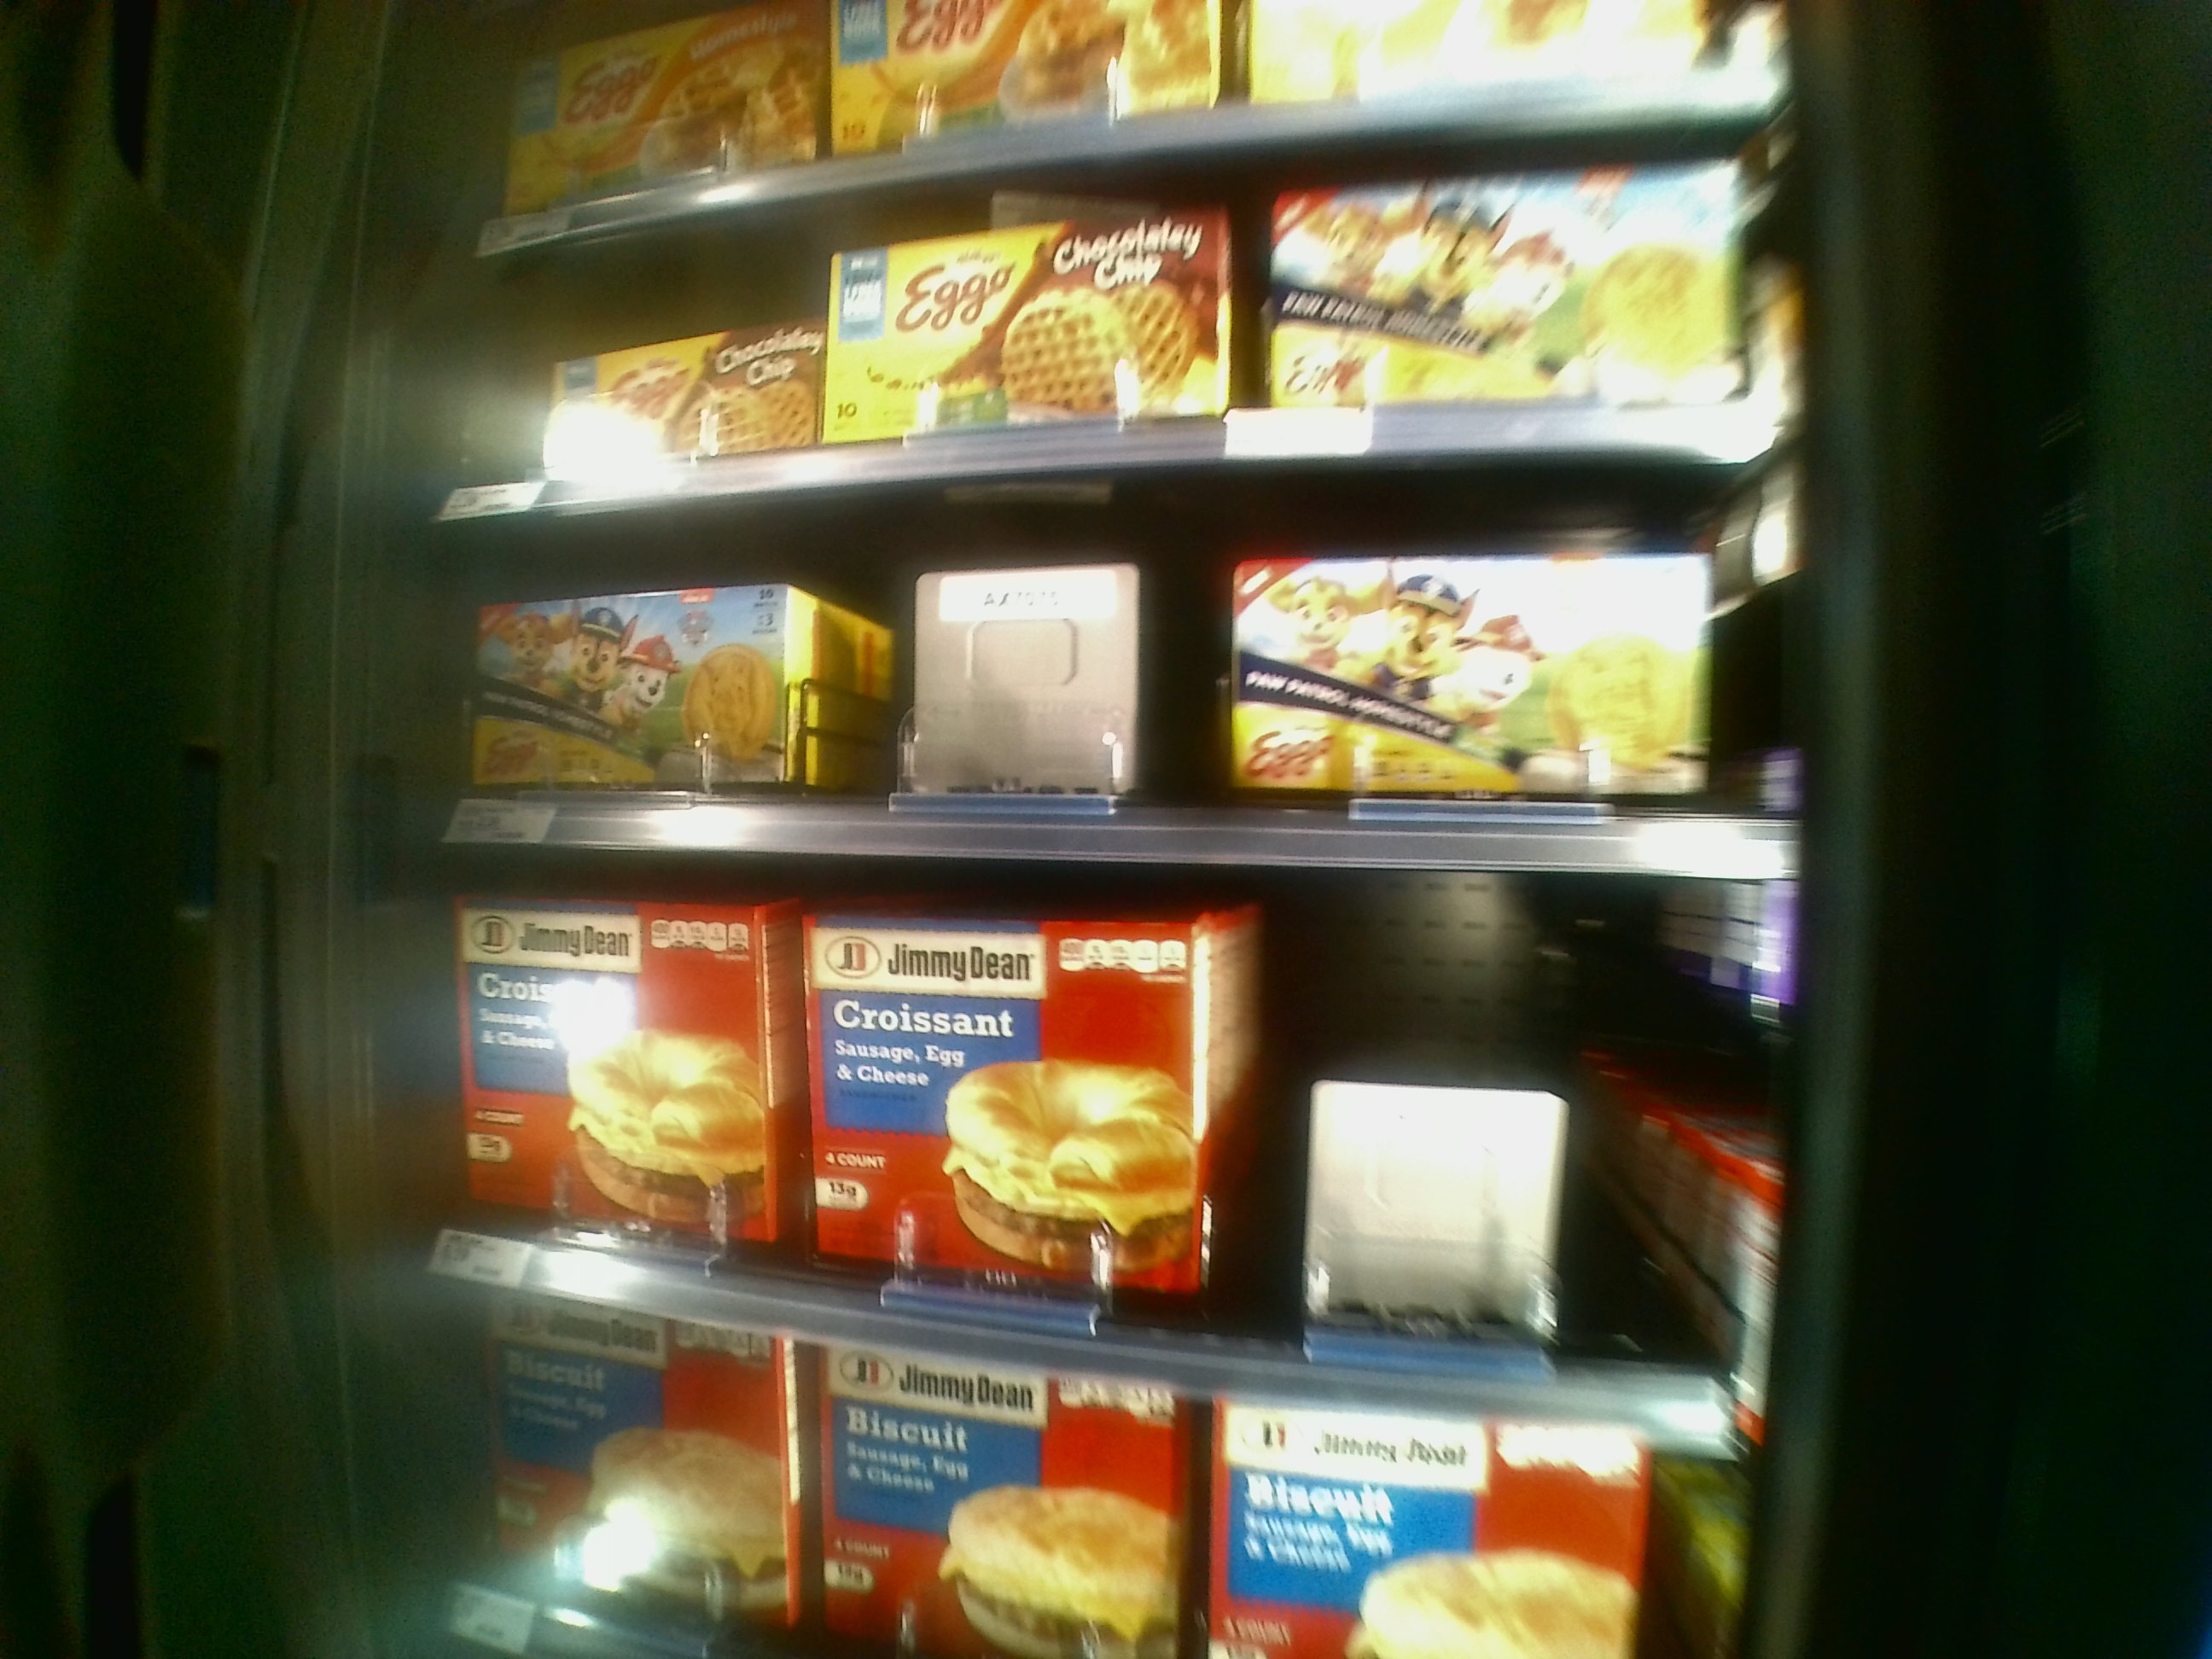shelf: (432, 455, 1806, 878)
